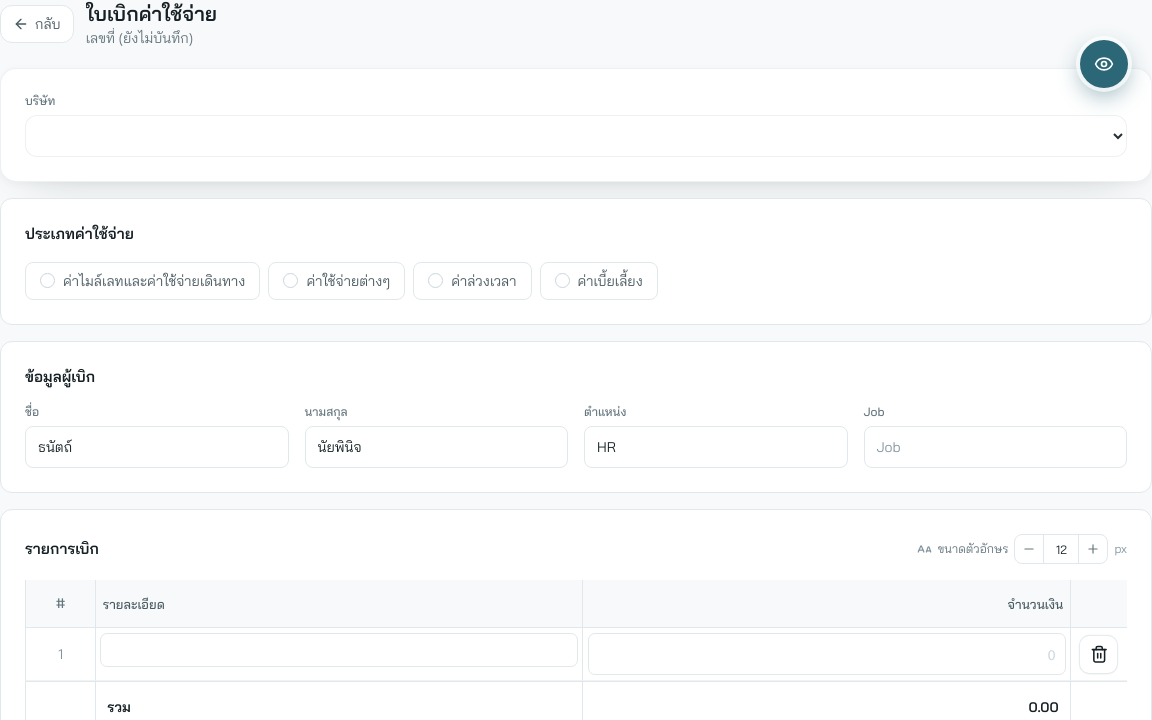
Test: one button saves, then prints › a new document is saved first, then printed with the number it was given
Step 1. Type "500" into the number field with placeholder "0" → (827, 654), box [588, 633, 1066, 675]
(page scrolled)
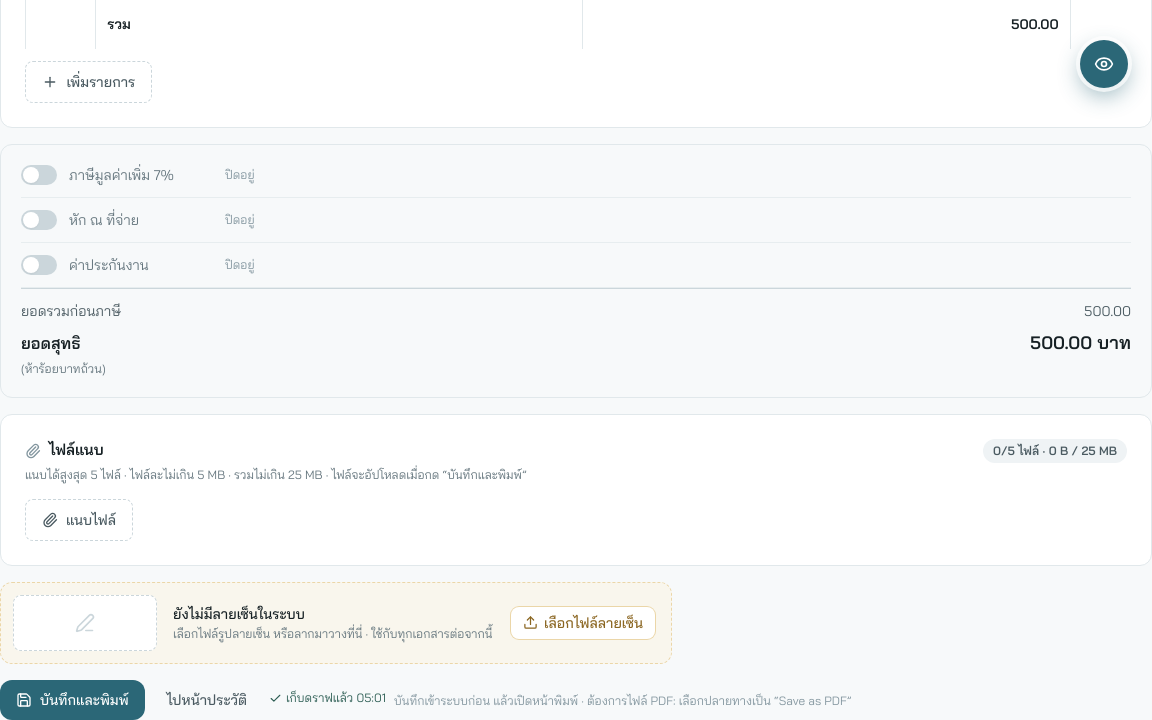
Step 2. Click the button "บันทึกและพิมพ์" → (72, 700), box [0, 680, 145, 719]
(page scrolled)
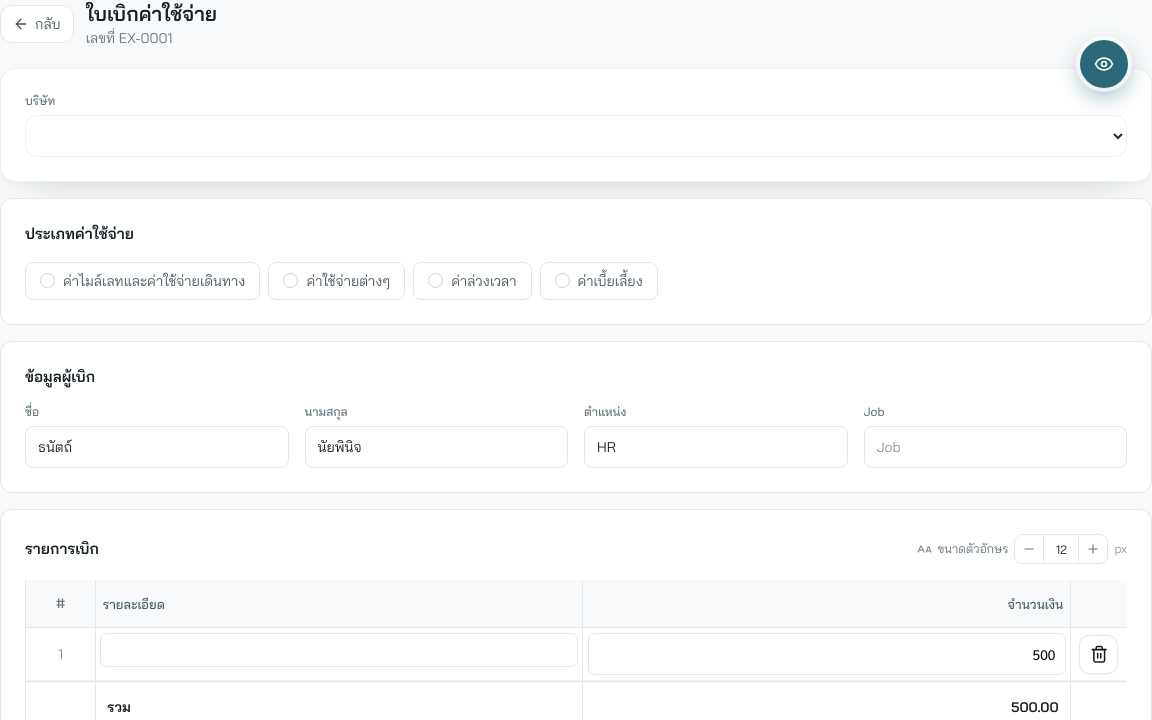
Expected: the text "เลขที่ EX-0001" is shown, [86, 29, 173, 47]
